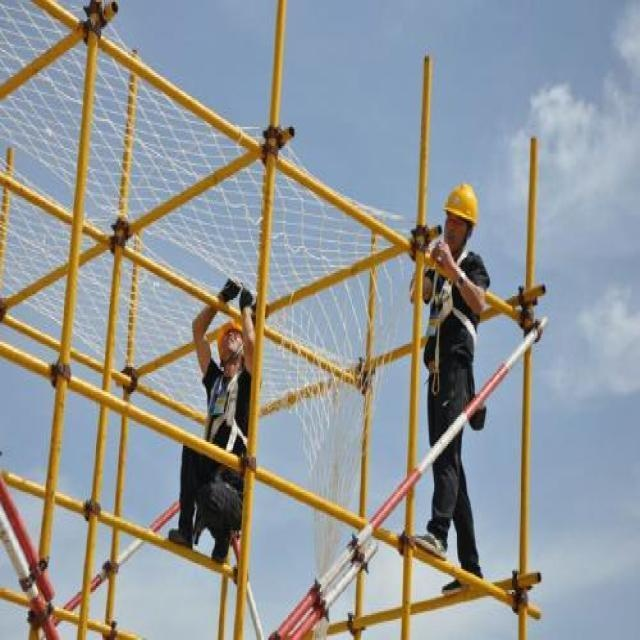Arnes_seguridad: (420, 242, 482, 358), (199, 360, 249, 456)
